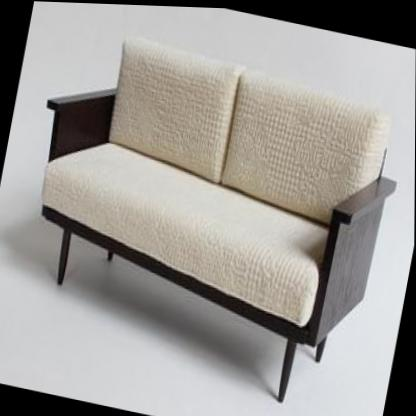Sofa: (0, 21, 414, 416)
